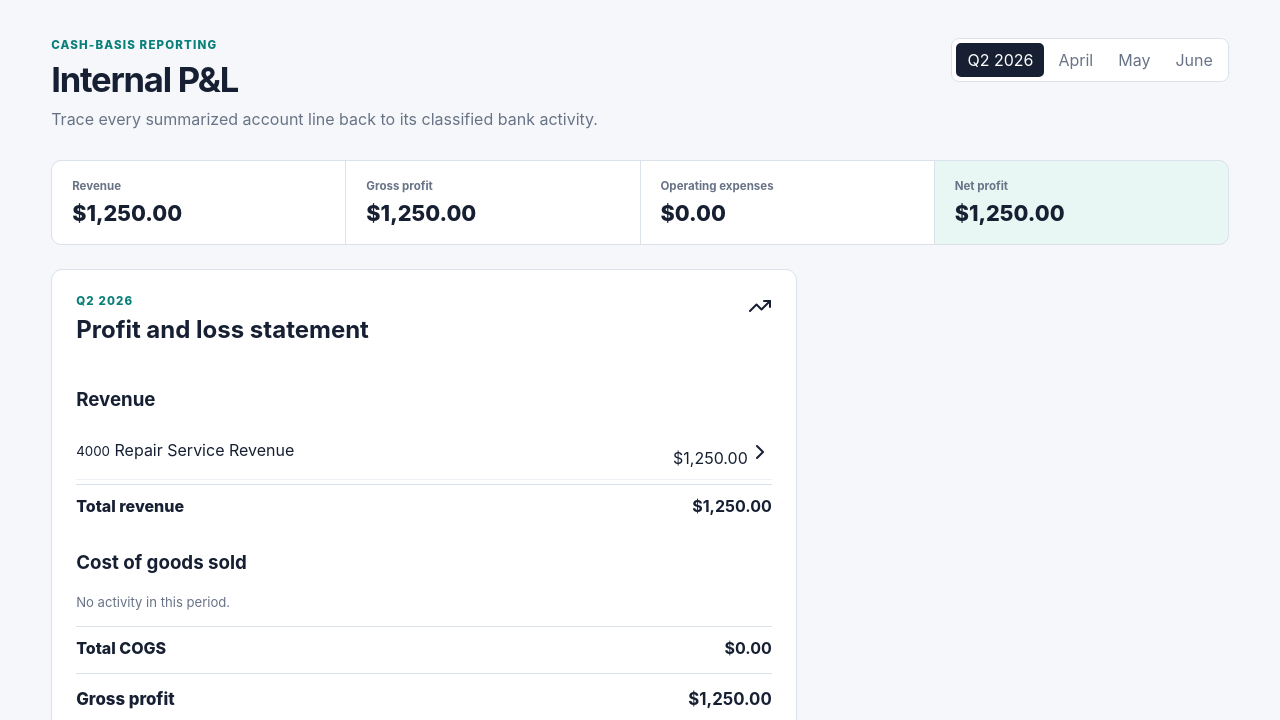
Test: PnlPage › opens transaction drill-down from an account line
The image size is (1280, 720).
Click the button with aria-label "Drill into 4000 Repair Service Revenue". click: (93, 451)
box: 76,429 -> 772,480
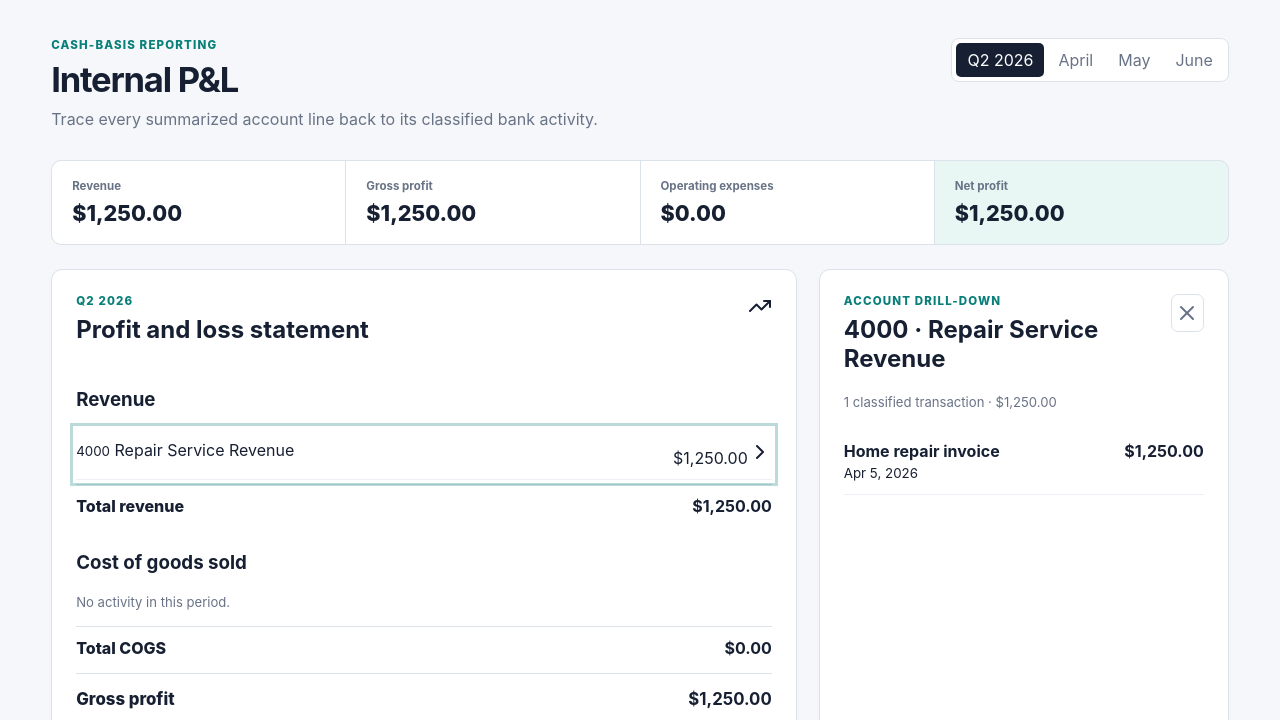
Expected: the text "Home repair invoice" is shown, 844,441 -> 1000,461
Expected: the text "$1,250.00" next to "Home repair invoice" is shown, 1124,441 -> 1204,461
